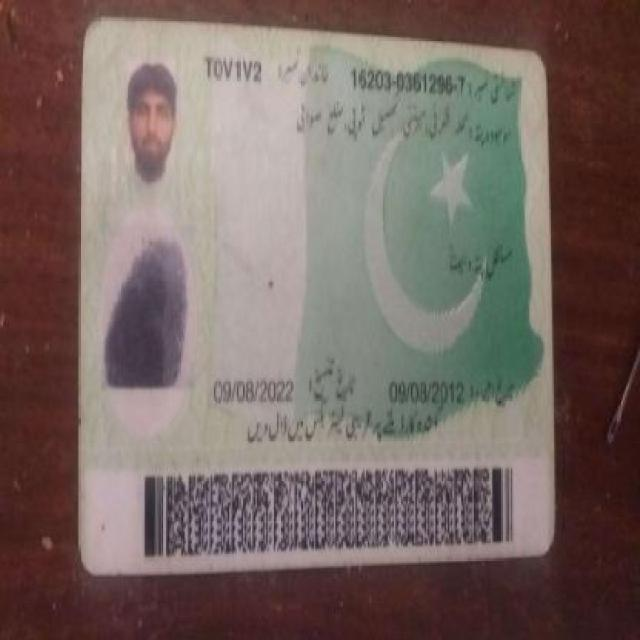Back: (63, 14, 565, 568)
